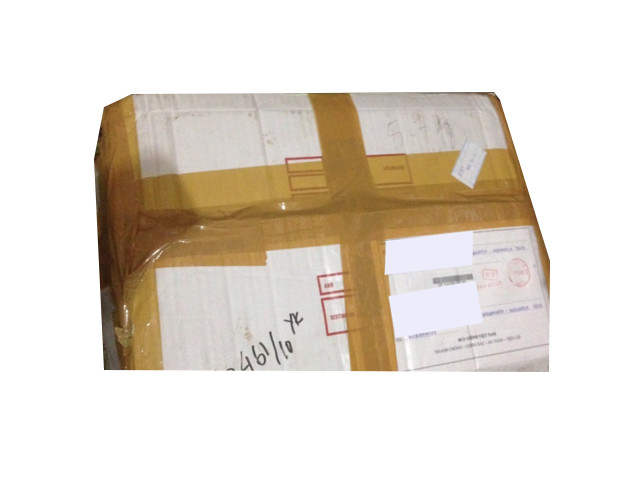cardboard: (94, 90, 550, 369)
